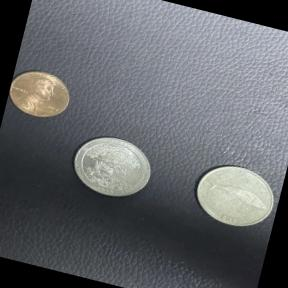Croatia-2Kune-B: (182, 152, 284, 238)
US-1cent-B: (2, 60, 82, 131)
US-25cent-B: (60, 126, 162, 210)
